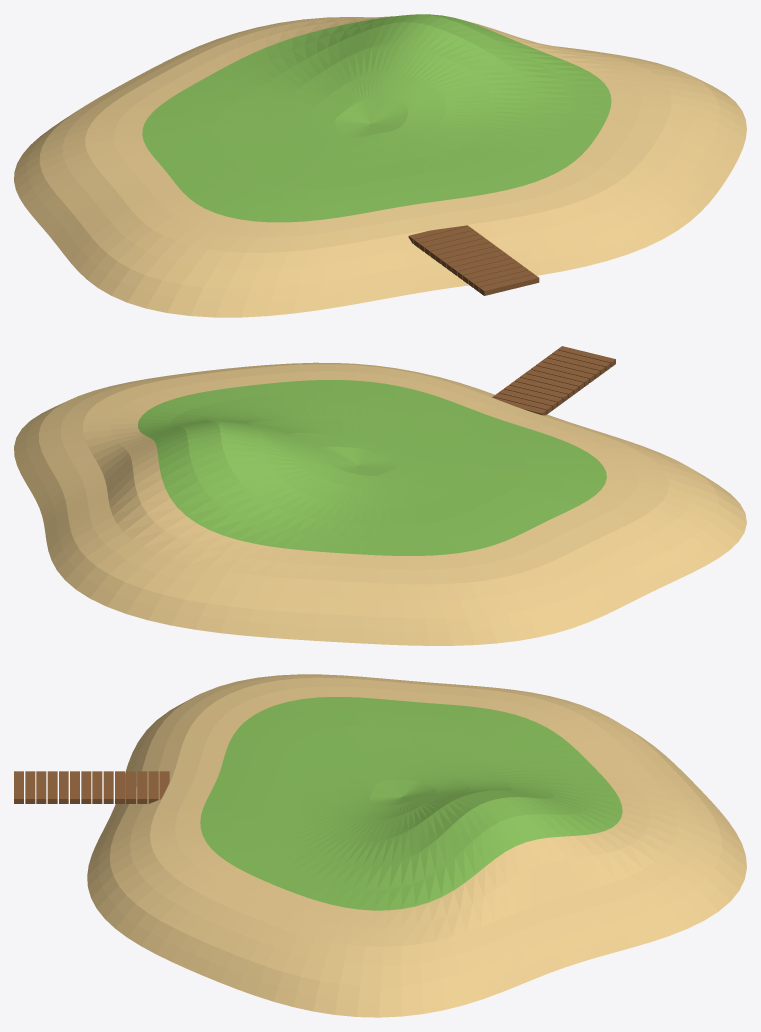
File: terrain.glb
3 views of the same model, one above another, from view 1: azimuth 30°, elevation 25°; view 2: azimuth 150°, elevation 25°; view 3: azimuth 270°, elevation 25° (orthographic). The views are drawn at different scales.
Parts seen in each view (by area): view 1: terrain; view 2: terrain; view 3: terrain.
Part boxes in pixels (left/top/right/bottom): terrain: left=14, top=14, right=746, bottom=317; terrain: left=14, top=346, right=746, bottom=645; terrain: left=14, top=674, right=746, bottom=1017.
Size of the model in its own units: 25.55 by 3.28 by 23.53.
